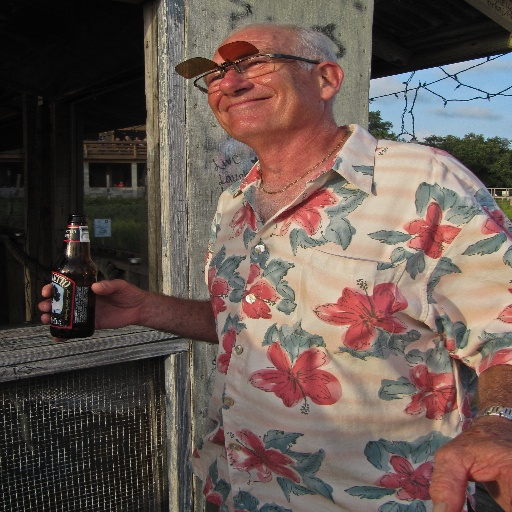hand: (415, 420, 512, 512), (38, 281, 150, 345)
